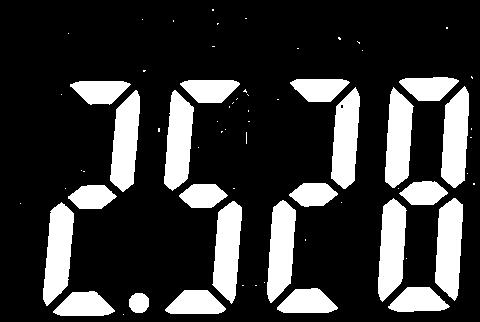2: (39, 77, 141, 317), (267, 76, 363, 314)
5: (160, 74, 248, 313)
8: (376, 73, 472, 313)
dot: (128, 291, 153, 315)
